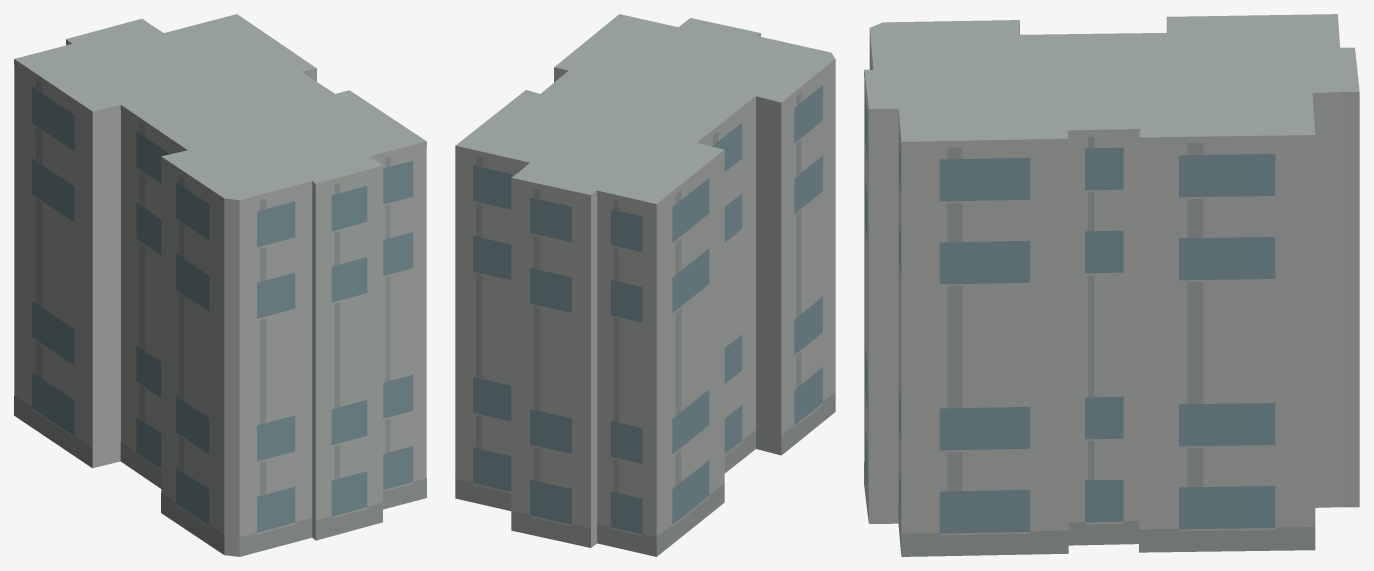
File: survey-upis-32812775.glb
3 renders of one model, left to right at view 1: azimuth 30°, elevation 25°; view 2: azimuth 150°, elevation 25°; view 3: azimuth 270°, elevation 25°, orthographic. The views are drawn at different scales.
Visible parts, largest first — view 1: survey-upis-32812775.tmp; view 2: survey-upis-32812775.tmp; view 3: survey-upis-32812775.tmp.
Part boxes in pixels (left/top/right/bottom): survey-upis-32812775.tmp: left=14, top=14, right=426, bottom=556; survey-upis-32812775.tmp: left=455, top=14, right=835, bottom=556; survey-upis-32812775.tmp: left=864, top=14, right=1359, bottom=556.
Bounding box in the file's own units: 10.08 × 15.25 × 16.51.
